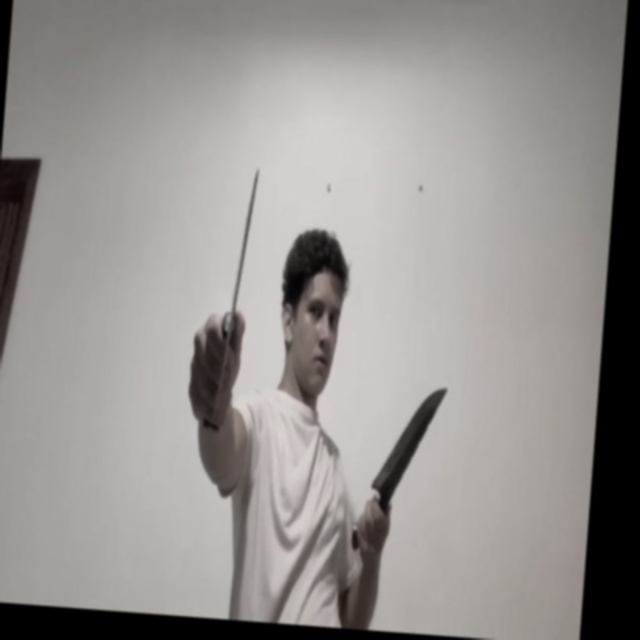Sharp-Object: (372, 381, 449, 492)
